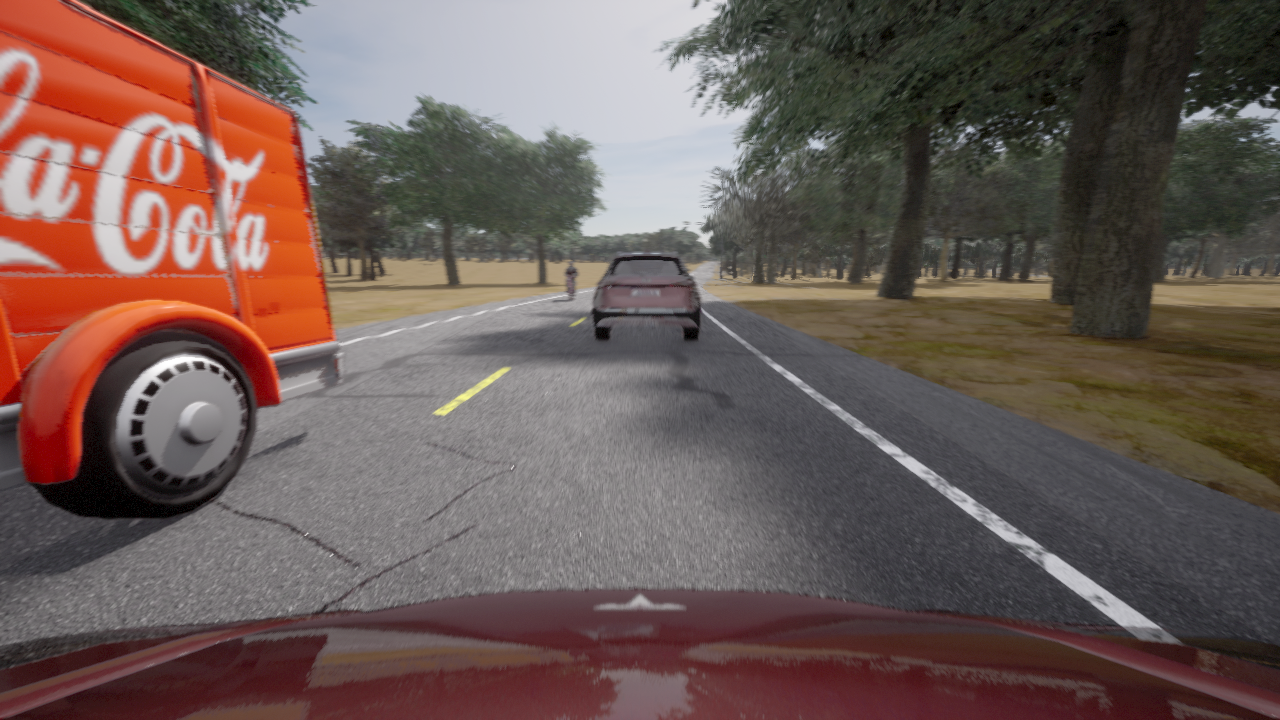cyclist: (0, 588, 1279, 719), (593, 249, 700, 340), (568, 278, 573, 300)
